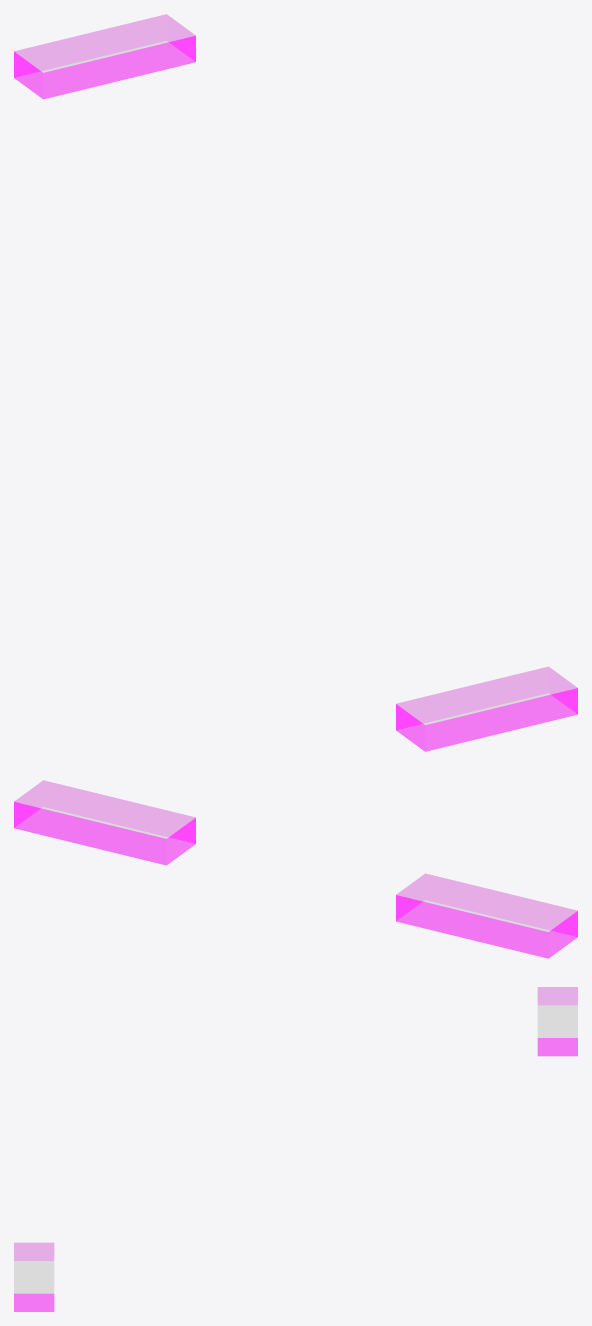
The model's file is (1)M GChanger.fbx.
3 renders of one model, top to bottom at view 1: azimuth 30°, elevation 25°; view 2: azimuth 150°, elevation 25°; view 3: azimuth 270°, elevation 25°, orthographic. The views are drawn at different scales.
Visible parts, largest first — view 1: Xjump.002, Xjump.003; view 2: Xjump.002, Xjump.003; view 3: Xjump.002, Xjump.003.
Boxes of the visible parts, box(x1,y1,x2,y2) form: Xjump.002: box(396, 666, 577, 751); Xjump.003: box(14, 14, 195, 99); Xjump.002: box(396, 873, 577, 958); Xjump.003: box(14, 780, 195, 865); Xjump.002: box(14, 1242, 54, 1311); Xjump.003: box(537, 987, 577, 1056).
Size of the model in its own units: 600 by 1500 by 2800.
